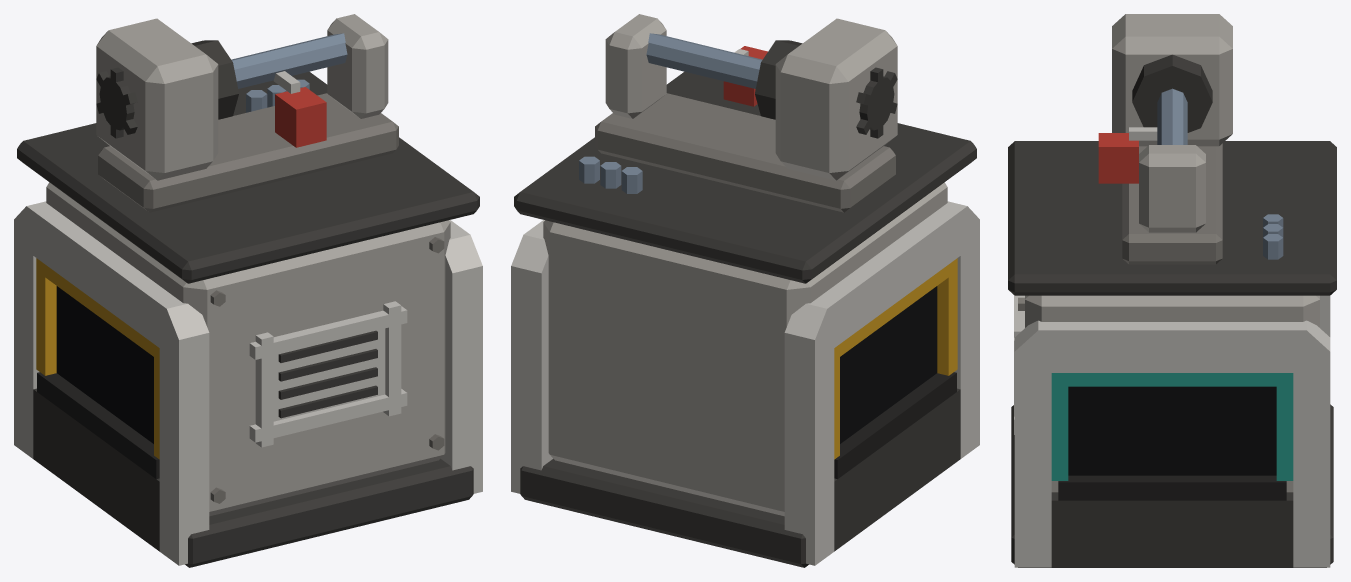
Rendered from lathe.fbx.
The picture shows the model from 3 angles, left to right: view 1: azimuth 30°, elevation 25°; view 2: azimuth 150°, elevation 25°; view 3: azimuth 270°, elevation 25°; orthographic projection. The views are drawn at different scales.
Visible parts, largest first — view 1: lathe; view 2: lathe; view 3: lathe.
Boxes of the visible parts, box(x1,y1,x2,y2) form: lathe: box(14, 14, 482, 567); lathe: box(511, 14, 979, 567); lathe: box(1008, 14, 1336, 567).
Bounding box in the file's own units: 3 × 4.29 × 2.94.
